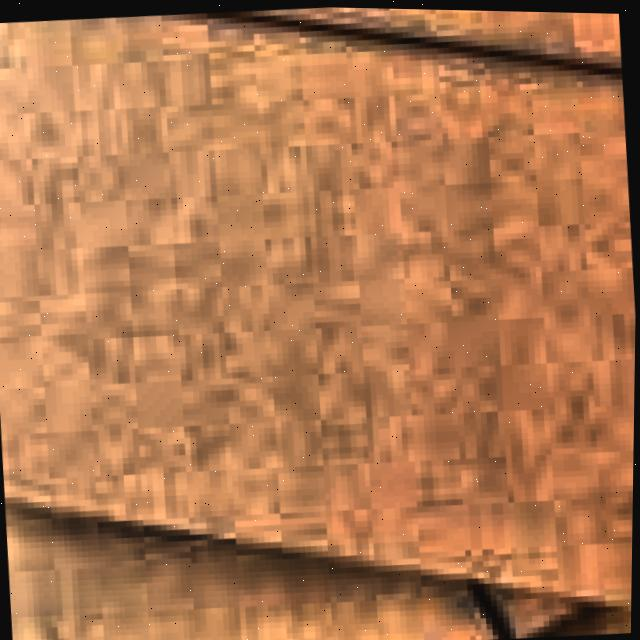paper: (0, 5, 636, 640)
